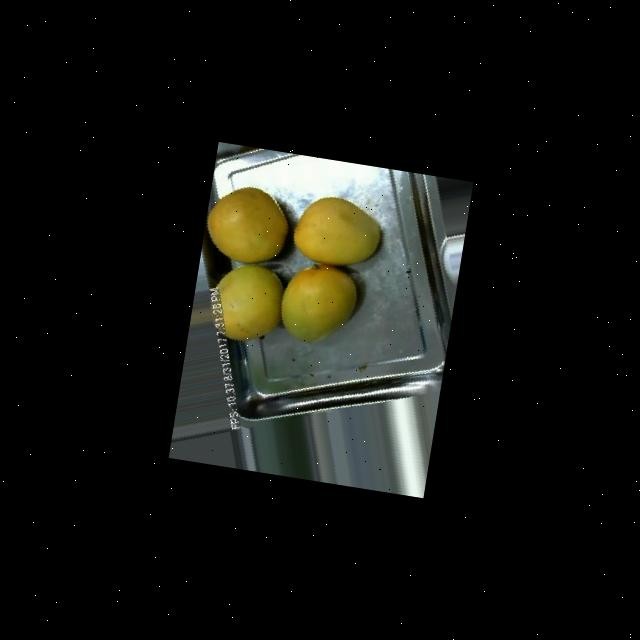Mango: (200, 181, 292, 269), (288, 192, 385, 273), (274, 259, 360, 350), (207, 260, 287, 348)
